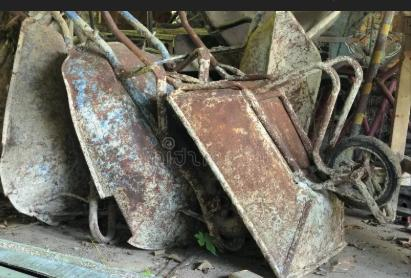BROUETTE: (0, 11, 404, 278)
